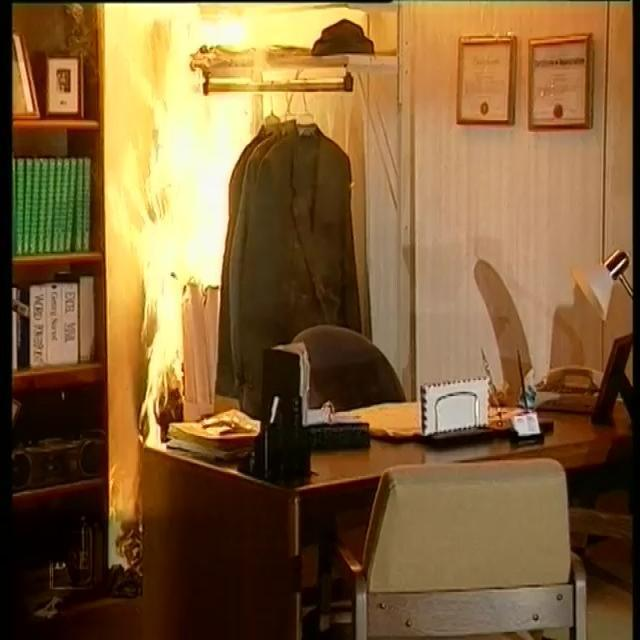Fire: (123, 4, 330, 448)
